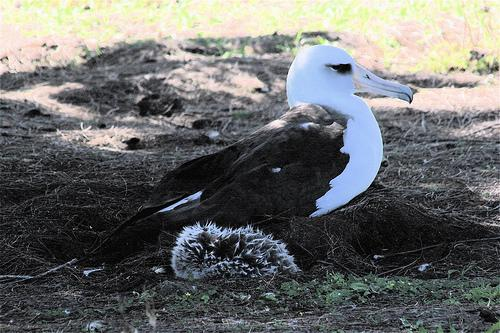002.Laysan_Albatross: (72, 41, 415, 286)
